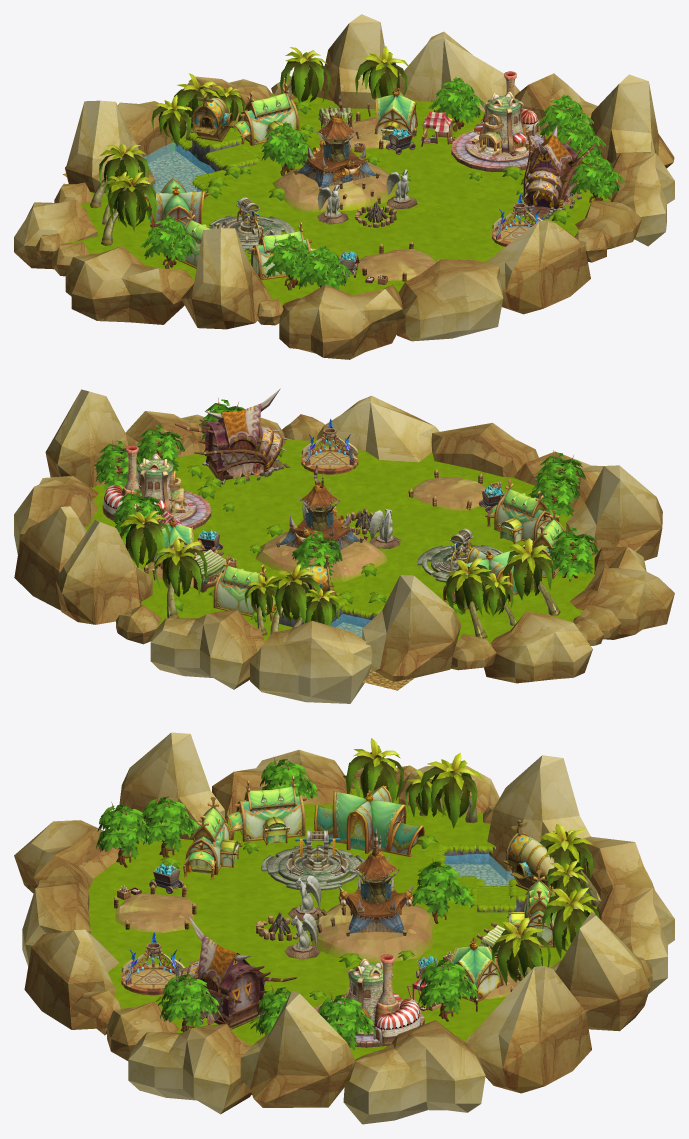
File: ground.FBX
The picture shows the model from 3 angles, top to bottom: view 1: azimuth 30°, elevation 25°; view 2: azimuth 150°, elevation 25°; view 3: azimuth 270°, elevation 25°; orthographic projection. The views are drawn at different scales.
Parts seen in each view (by area): view 1: shitou, tree8, ua042, fuben, uc055, tuduidui, Plane007, jianzao1, ua044, tree11, shop_green, Plane044 (+35 smaller); view 2: shitou, tree8, ua042, uc055, fuben, Plane007, tuduidui, jianzao1, ua043, tree11, tree9, Plane021 (+34 smaller); view 3: shitou, tree8, ua007, ua042, tuduidui, fuben, uc055, Plane007, jianzao1, ua009, ua043, shop_green (+35 smaller).
Boxes of the visible parts, x1,y1,x2,y2 form: shitou: [14, 14, 674, 359]; tree8: [90, 46, 409, 224]; ua042: [522, 125, 596, 219]; fuben: [293, 93, 380, 209]; uc055: [472, 71, 539, 156]; tuduidui: [272, 161, 397, 212]; Plane007: [80, 164, 277, 232]; jianzao1: [339, 241, 438, 284]; ua044: [232, 83, 299, 145]; tree11: [101, 172, 157, 245]; shop_green: [318, 86, 435, 146]; Plane044: [143, 142, 214, 194]; shitou: [14, 389, 674, 703]; tree8: [119, 511, 516, 638]; ua042: [174, 388, 290, 484]; uc055: [102, 445, 186, 521]; fuben: [275, 460, 367, 561]; Plane007: [330, 575, 522, 645]; tuduidui: [255, 531, 388, 582]; jianzao1: [408, 469, 504, 512]; ua043: [485, 479, 552, 543]; tree11: [503, 538, 560, 615]; tree9: [154, 538, 207, 618]; Plane021: [205, 478, 294, 516]; shitou: [14, 732, 674, 1124]; tree8: [405, 752, 601, 985]; ua007: [314, 785, 424, 856]; ua042: [178, 914, 297, 1029]; tuduidui: [311, 903, 437, 962]; fuben: [310, 827, 413, 941]; uc055: [335, 954, 421, 1043]; Plane007: [398, 811, 492, 912]; jianzao1: [114, 863, 196, 932]; ua009: [224, 776, 306, 844]; ua043: [183, 796, 242, 880]; shop_green: [443, 922, 520, 1011].
Bounding box in the file's own units: 207 × 44.44 × 173.
